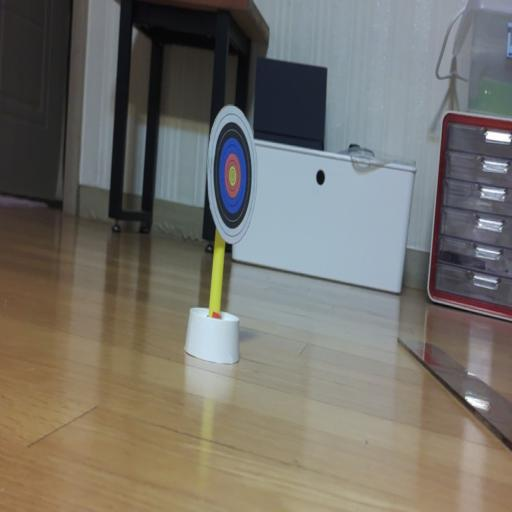target: (208, 105, 257, 244)
